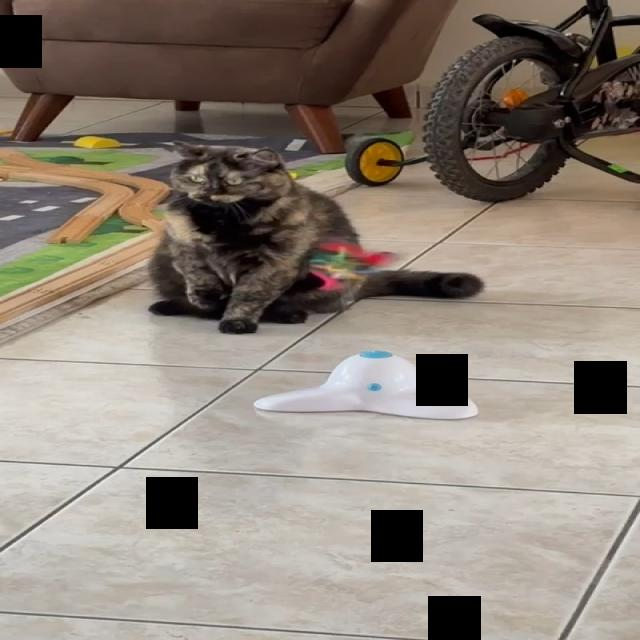authorized: (145, 139, 484, 333)
